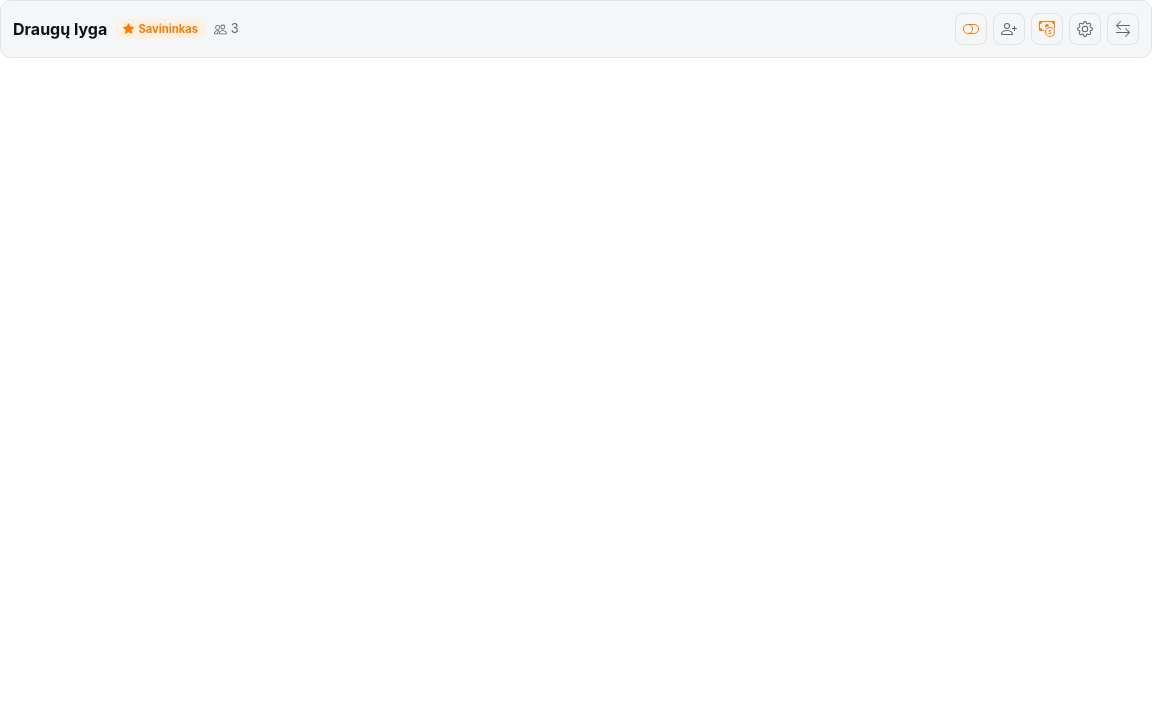
it: the dialogs a row opens › hand-over opens the member picker and the close button shuts it
Step 1. Click the button titled "Perduoti valdymą" → x=1123, y=29, box [1107,13,1139,45]
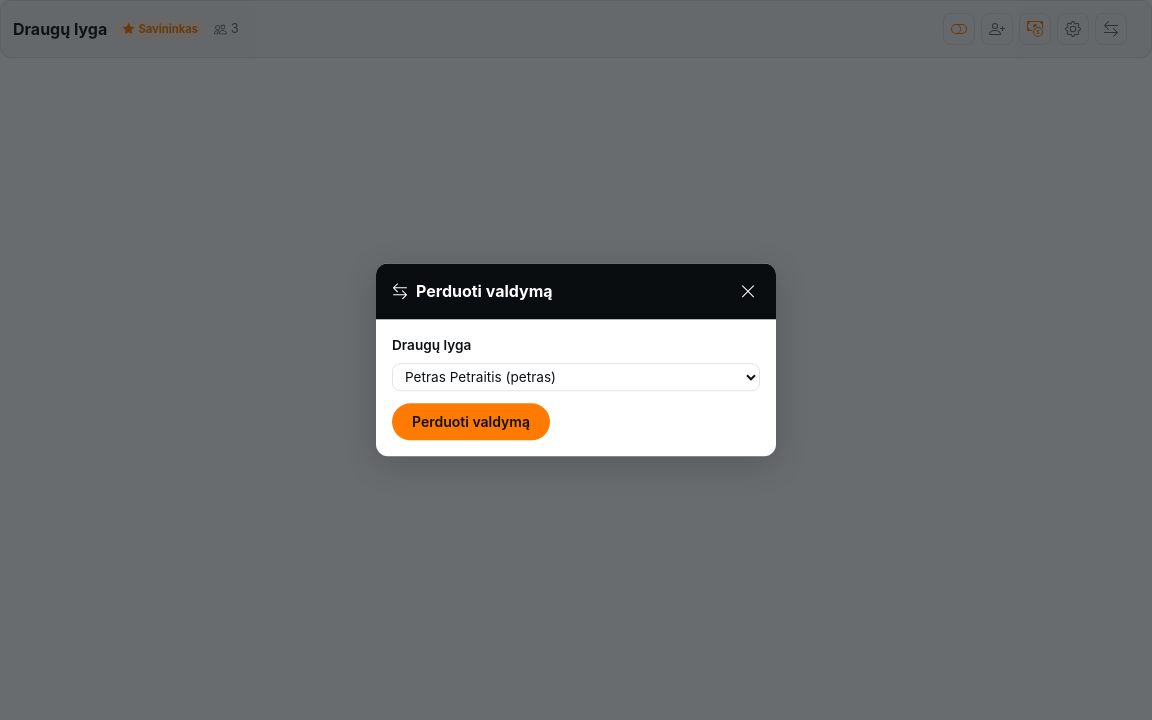
Check: the button "Perduoti valdymą" is shown, box [392,404,550,441]
Step 2. Click the button named "Uždaryti" → x=748, y=291, box [736,275,760,307]
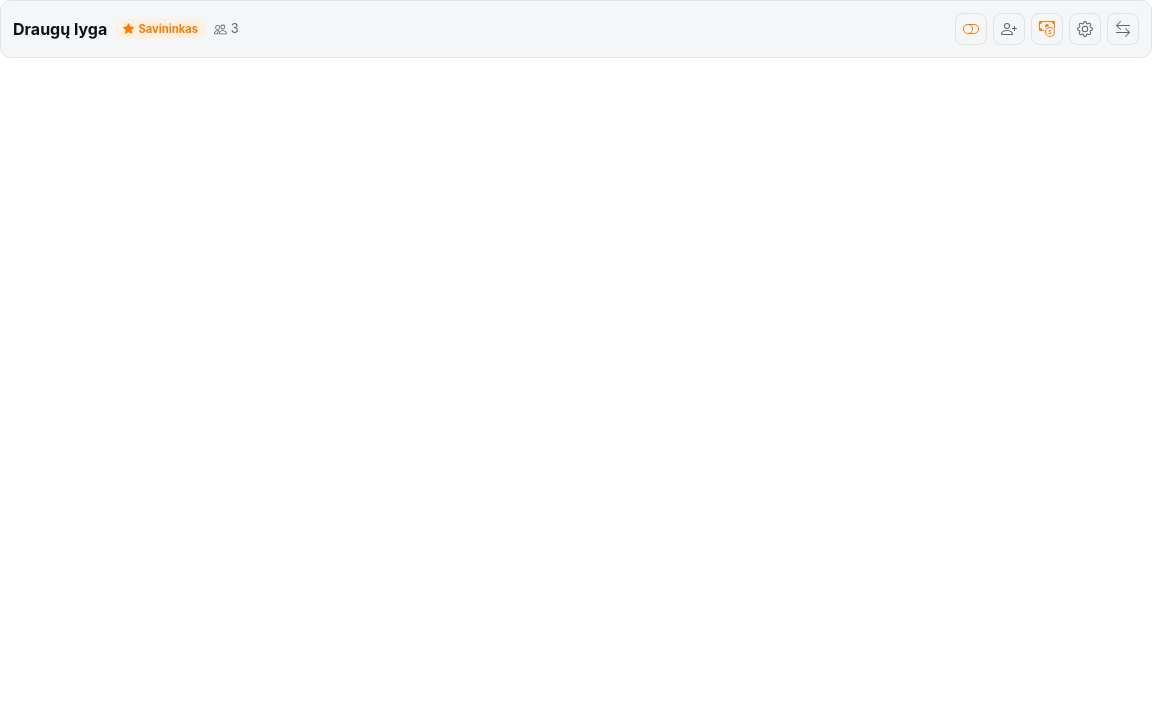
Check: the dialog is gone
